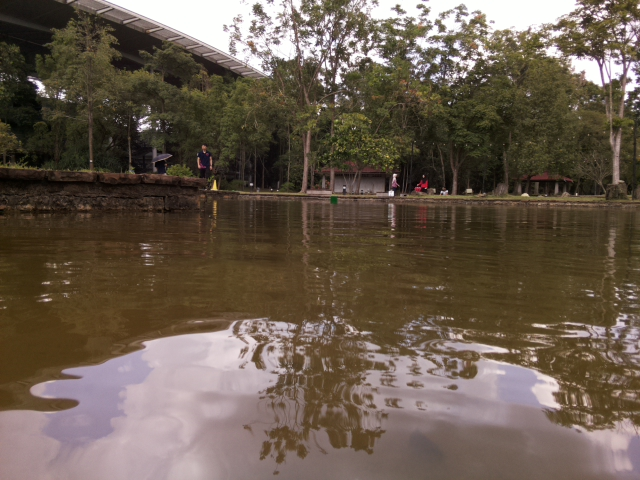checkpoint: (208, 179, 220, 191)
obstacle: (330, 196, 338, 205)
